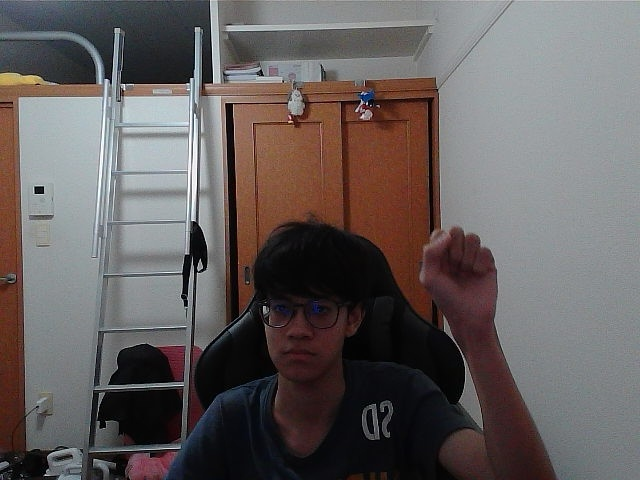closed_palm: (430, 231, 487, 315)
